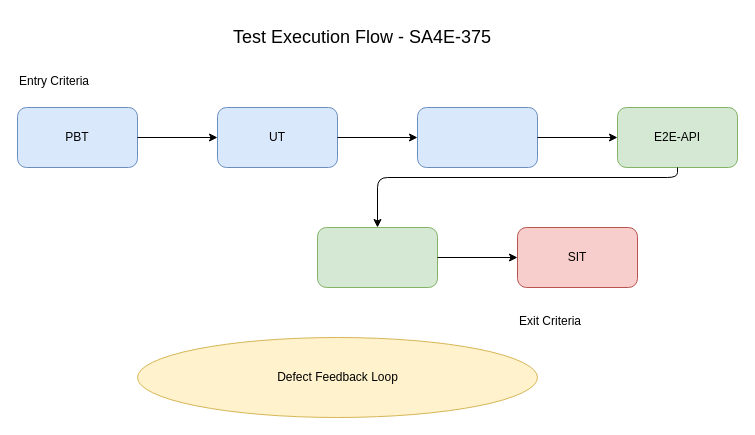
This 755x435 diagram has some shape labels left out. The box of each missing label's shape, as (x1, y1, x2, y2) in pixels:
E2E-UI: (316, 226, 438, 288)
IT: (416, 106, 538, 168)
